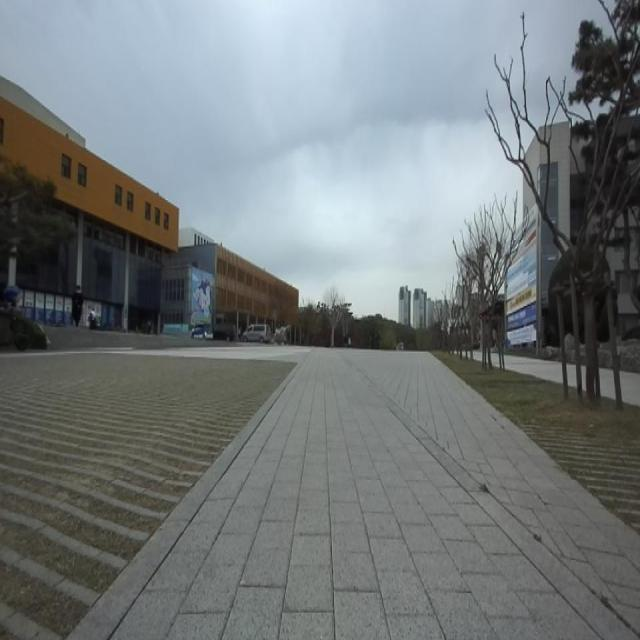sidewalk: (72, 348, 638, 639)
